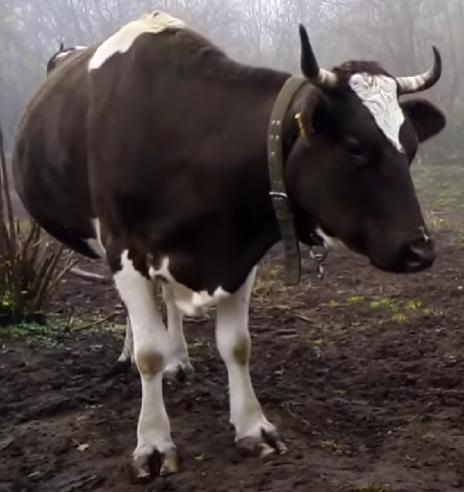cow: (11, 10, 446, 478)
